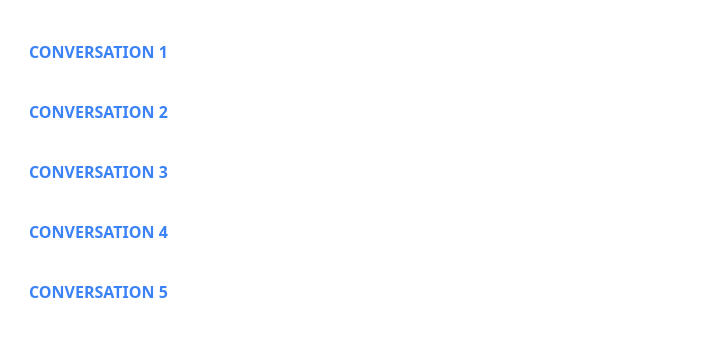
Test: App › should show messages with the last updated first
The width and height of the screenshot is (706, 358).
Click the button "Conversation 1" at (98, 52), box [17,28,180,76]
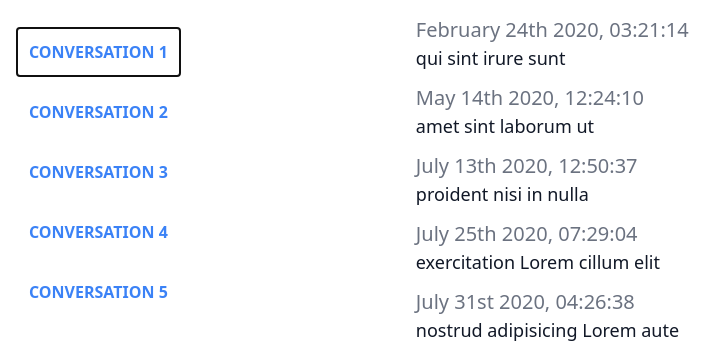
Expected: the text "February 24th 2020, 03:21:14" is shown, [416,16,689,44]
Expected: the text "May 14th 2020, 12:24:10" is shown, [416,84,644,111]
Expected: the text "July 13th 2020, 12:50:37" is shown, [416,152,638,179]
